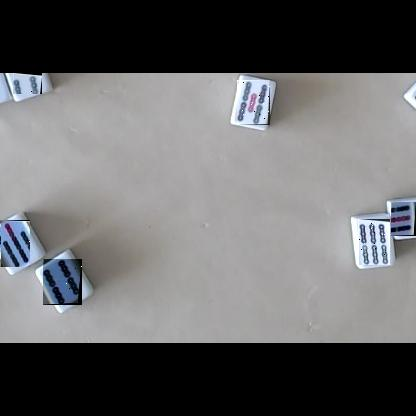3s: (13, 73, 42, 94)
4s: (43, 259, 82, 305)
5s: (237, 80, 270, 125)
6s: (358, 219, 390, 265)
7s: (0, 220, 30, 267)
9s: (391, 202, 416, 236)
